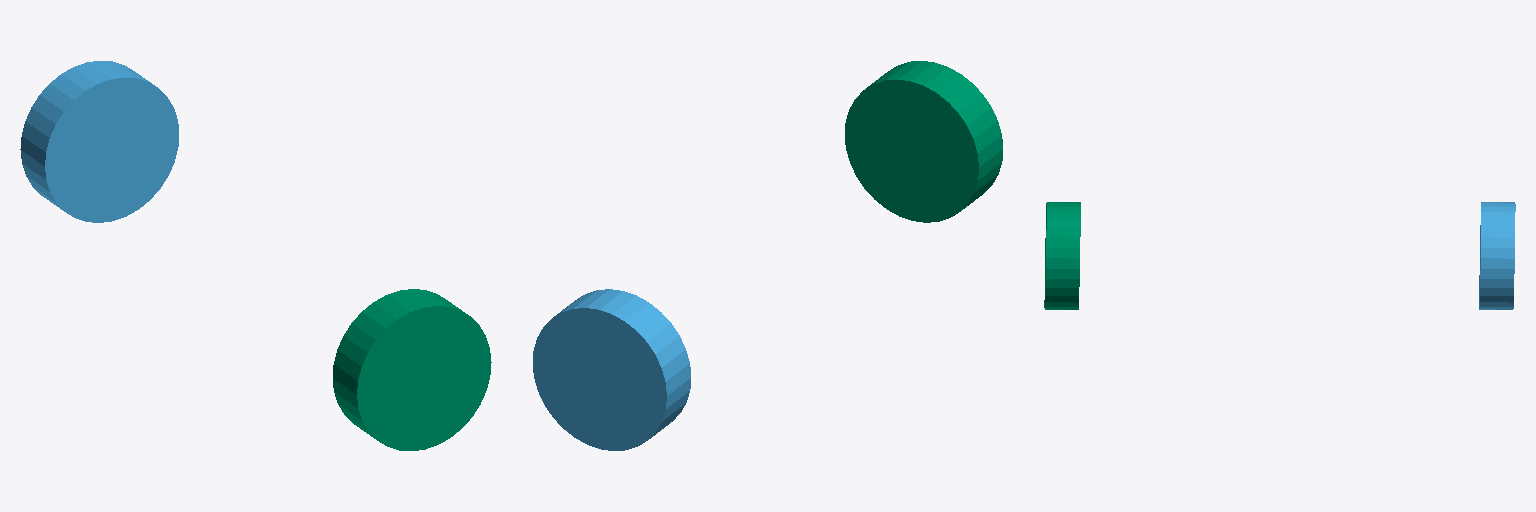
The robot description file, URDF, robot "agv":
<robot name="agv">

	<!-- * * * Link Definitions * * * -->

 	<link name="base_link">
		<visual>
		    <origin rpy="0 0 0" xyz="0 0 -0.06"/>
          <axis xyz="0 0 0" />
			<geometry>
                <mesh filename="[local-path]\Desktop\agv_urdf\urdf\meshes\base_final.STL"/>
			</geometry>
			<material name="c">
	       		<color rgba="0 0.9 0.9 1.0"/>
	     	</material>
		</visual>	
	</link>
	<link name="left_wheel">
		<visual>
          
          <origin xyz="0 0.255 0" rpy="1.55 0 0"/>
          <geometry>
            <cylinder length="0.04" radius="0.0635"/>
            <!--<mesh filename="[local-path]\Desktop\agv_urdf\urdf\meshes\wheel_final.STL"/>-->


          </geometry>
		</visual>
	</link>
	<joint name="left_wheel_joint" type="continuous">
      	<origin xyz="0 0 0" rpy="0 0 0"/>
     	<parent link = "base_link"/>
      	<child  link = "left_wheel"/>
        <axis xyz="0 1 0"/>
	</joint>
	<link name="right_wheel">
		<visual>
          
          <origin xyz="0 -0.255 0" rpy="1.55 0 0"/>
          <geometry>
             <cylinder length="0.04" radius="0.0635"/> 
            <!--<mesh filename="[local-path]\Desktop\agv_urdf\urdf\meshes\wheel_final.STL"/>-->
          </geometry>
		</visual>
	</link>
	<joint name="right_wheel_joint" type="continuous">
      	<origin xyz="0 0 0" rpy="0 0 0"/>
     	<parent link = "base_link"/>
      	<child  link = "right_wheel"/>
        <axis xyz="0 1 0"/>
	</joint>


</robot>

--- What the picture shows (computed from the rendered views, not written in the file) ---
The picture shows the robot from 3 angles, left to right: view 1: azimuth 30°, elevation 25°; view 2: azimuth 150°, elevation 25°; view 3: azimuth 270°, elevation 25°; orthographic projection.
Robot: agv — 3 links, 2 joints (2 continuous); root link base_link; default pose: all joints at 0.
Links seen in each view (by area): view 1: left_wheel, right_wheel; view 2: left_wheel, right_wheel; view 3: left_wheel, right_wheel.
Boxes of the visible links, x1,y1,x2,y2 form: left_wheel: (20,61,178,222); right_wheel: (333,289,491,450); left_wheel: (533,289,690,450); right_wheel: (845,61,1002,222); left_wheel: (1479,202,1515,309); right_wheel: (1044,202,1080,309).
Bounding box of the posed robot: 0.127 × 0.5526 × 0.1278 m (x, y, z).
Geometry: only primitive shapes (box / cylinder / sphere) drawn; not drawn: 1 mesh visual (reference in a form the renderer does not follow).